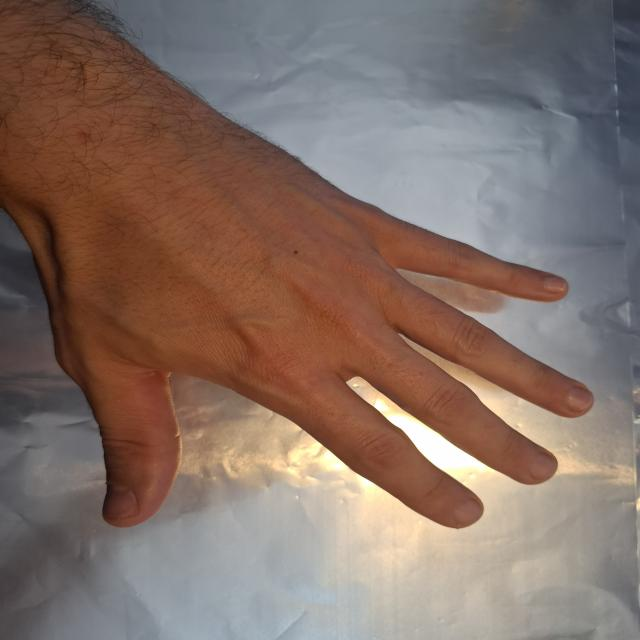glove_off: (14, 136, 596, 524)
